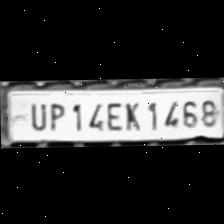1: (141, 98, 159, 130), (65, 99, 83, 130)
4: (82, 98, 104, 130), (159, 96, 179, 128)
6: (178, 95, 196, 126)
8: (196, 94, 218, 127)
E: (102, 98, 122, 130)
K: (120, 98, 142, 131)
P: (45, 98, 67, 130)
U: (25, 98, 47, 130)
